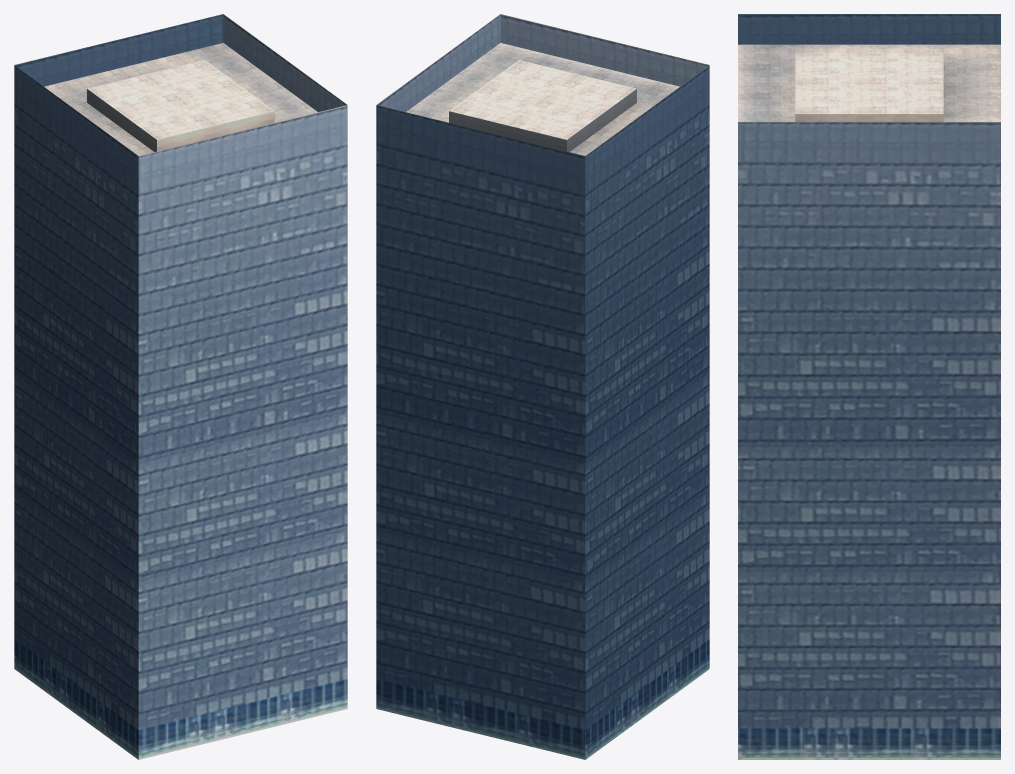
The model's file is 4A office.obj.
3 views of the same model, side by side, from view 1: azimuth 30°, elevation 25°; view 2: azimuth 150°, elevation 25°; view 3: azimuth 270°, elevation 25° (orthographic). The views are drawn at different scales.
Visible parts, largest first — view 1: 4A_office; view 2: 4A_office; view 3: 4A_office.
Boxes of the visible parts, x1,y1,x2,y2 form: 4A_office: (14,14,347,759); 4A_office: (376,14,709,759); 4A_office: (738,14,1000,759).
Bounding box in the file's own units: 28.41 × 78.38 × 29.26.
Materials: 1 (1 with a texture image).
